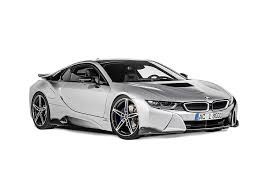bmw: (19, 59, 246, 142)
